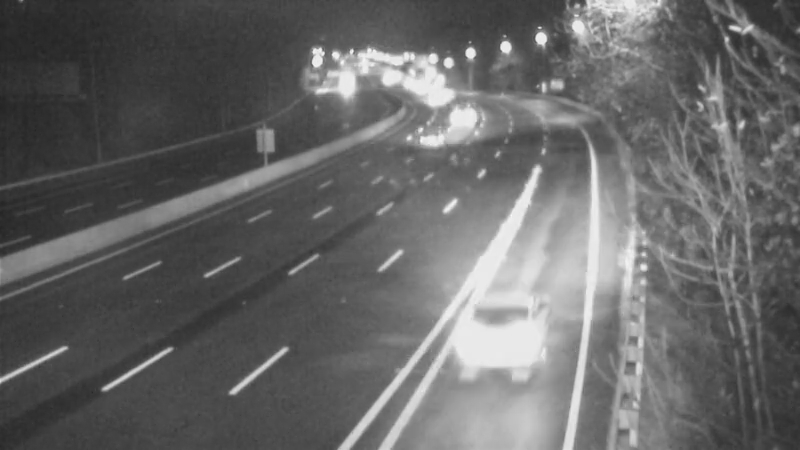vehicle: (444, 289, 554, 399), (412, 76, 462, 126), (438, 96, 488, 146), (409, 115, 459, 165)
